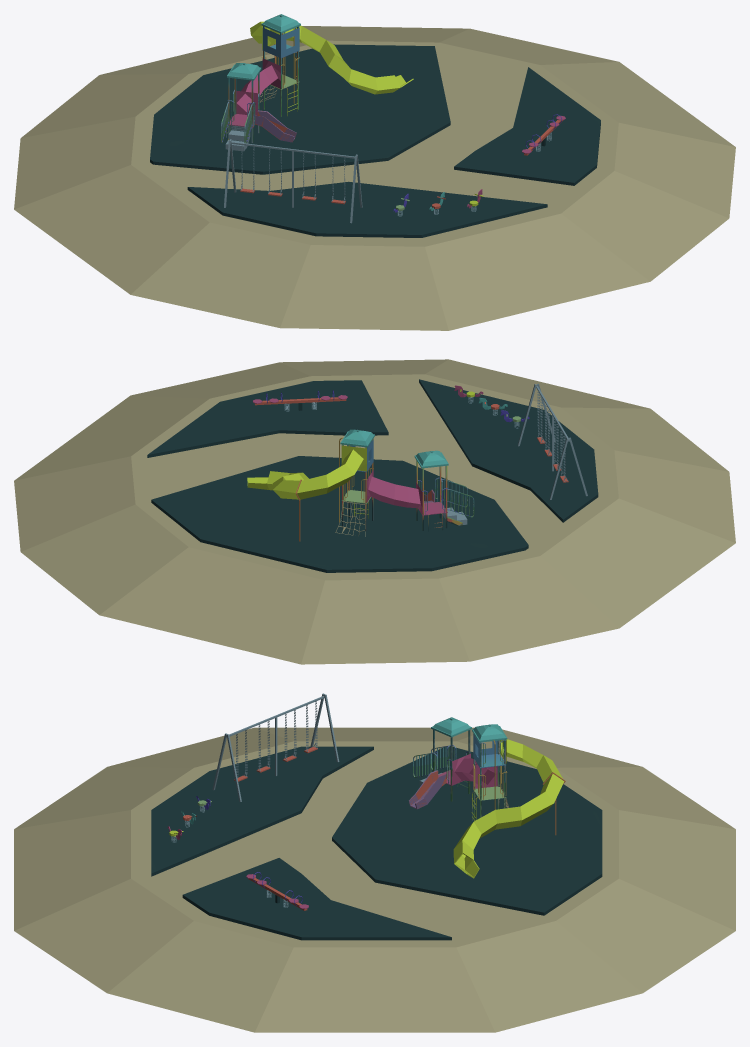
File: playground jan 5.fbx
The picture shows the model from 3 angles, top to bottom: view 1: azimuth 30°, elevation 25°; view 2: azimuth 150°, elevation 25°; view 3: azimuth 270°, elevation 25°; orthographic projection. The views are drawn at different scales.
Parts seen in each view (by area): view 1: concrete, tire ground, Cube.007, SWINGS; view 2: concrete, tire ground, Cube.007, SWINGS, Torus.001, Torus; view 3: concrete, tire ground, Cube.007, SWINGS.
Boxes of the visible parts, bbox=[...] form: concrete: bbox=[14, 26, 735, 330]; tire ground: bbox=[150, 44, 600, 237]; Cube.007: bbox=[221, 14, 413, 151]; SWINGS: bbox=[224, 139, 362, 223]; concrete: bbox=[14, 359, 735, 664]; tire ground: bbox=[147, 379, 598, 572]; Cube.007: bbox=[247, 429, 474, 541]; SWINGS: bbox=[517, 383, 587, 499]; Torus.001: bbox=[454, 385, 529, 428]; Torus: bbox=[253, 390, 347, 405]; concrete: bbox=[14, 727, 735, 1032]; tire ground: bbox=[151, 746, 602, 940]; Cube.007: bbox=[409, 717, 565, 878]; SWINGS: bbox=[212, 693, 339, 801].
Bounding box in the file's own units: 2100 × 437 × 2100.
1 material, 1 textured.
